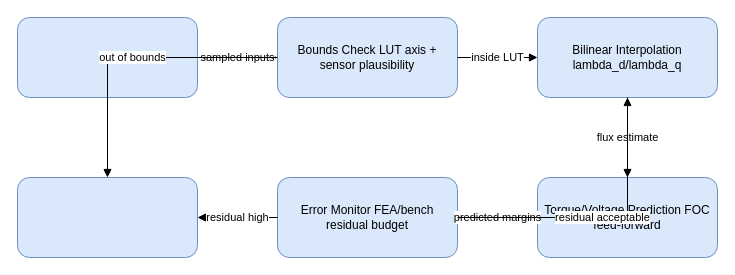
Some shapes in this 735 by 275 pixel diagram are drawn without their labels. Here are the shapes that lost their labels. From the top down, the centre of each, then its label:
the point at 107,57: Inputs id/iq, theta, T, Vdc
the point at 107,217: Fallback Linear dq Reject or clamp request
